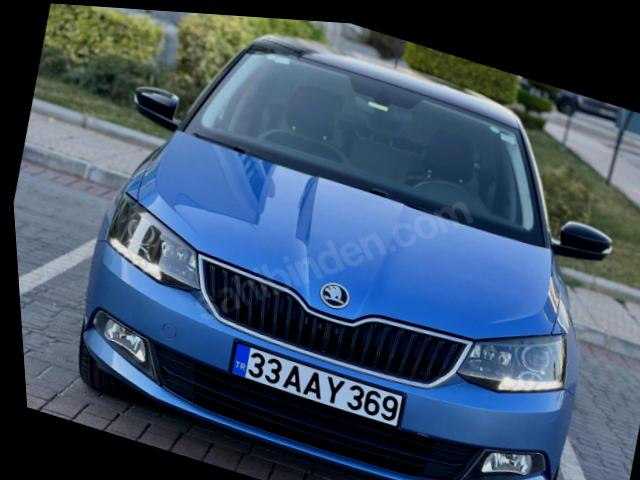plaka: (231, 343, 404, 427)
